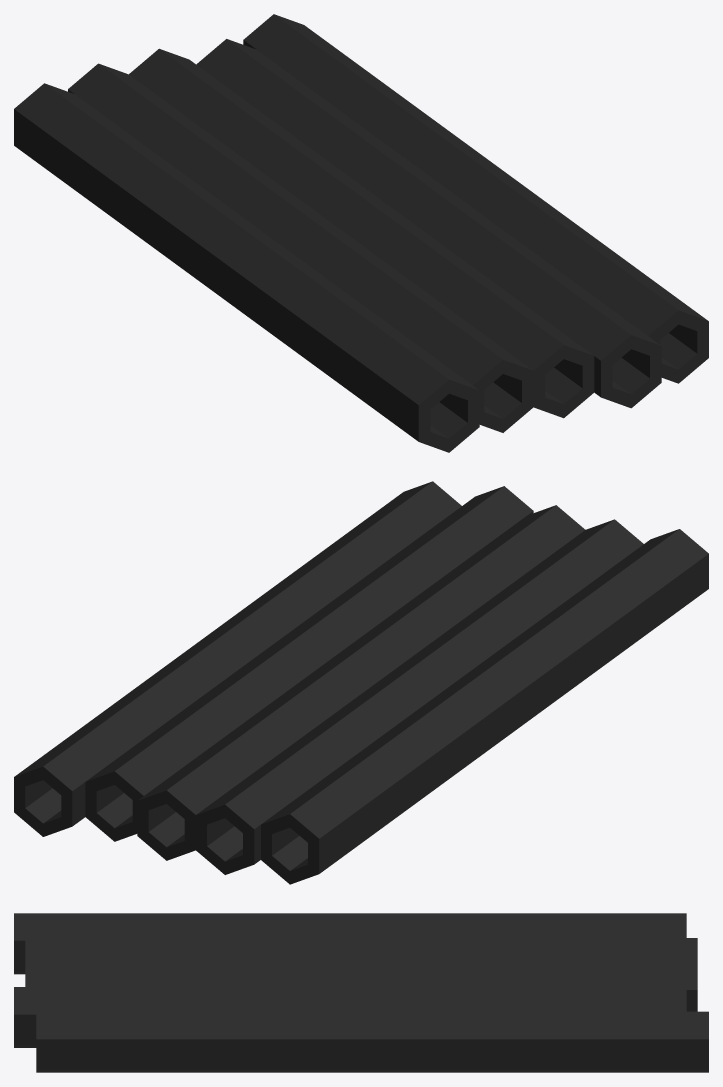
File: carbon-fiber.glb
3 renders of one model, top to bottom at view 1: azimuth 30°, elevation 25°; view 2: azimuth 150°, elevation 25°; view 3: azimuth 270°, elevation 25°, orthographic. The views are drawn at different scales.
Parts seen in each view (by area): view 1: carbon-fiber; view 2: carbon-fiber; view 3: carbon-fiber.
Part boxes in pixels (x1,y1,x2,y2): carbon-fiber: (14,14,708,452); carbon-fiber: (14,481,708,884); carbon-fiber: (14,913,708,1072).
Bounding box in the file's own units: 0.2599 × 0.06 × 0.62.
1 material, 1 textured.
